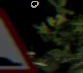Speed Breaker ahead: (1, 7, 36, 68)
